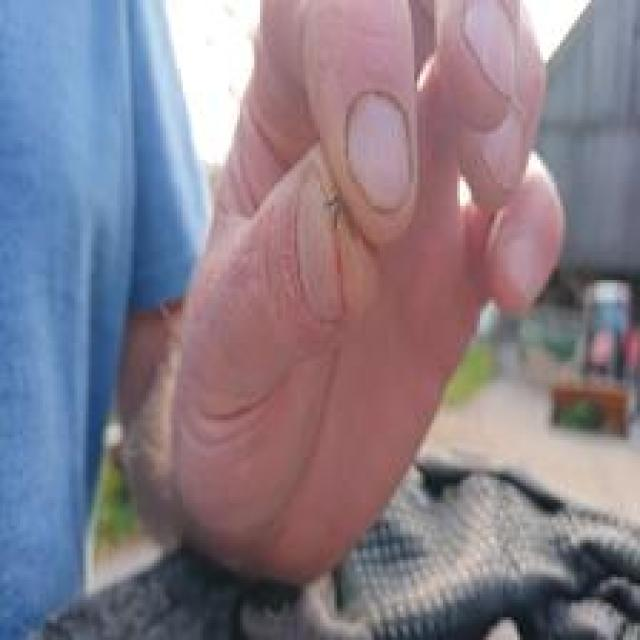Culex: (14, 0, 640, 640)
